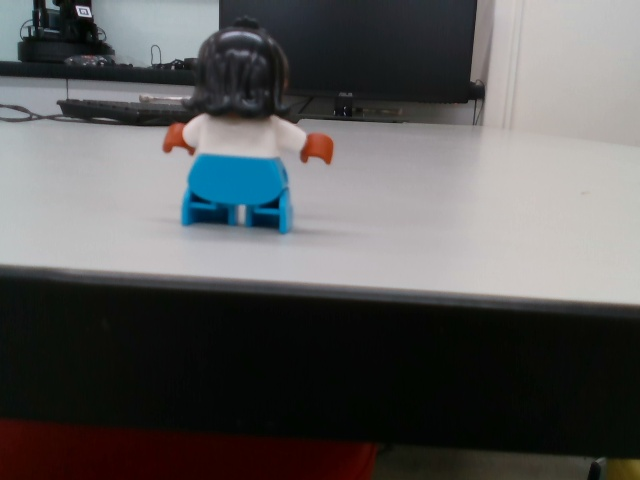people: (159, 12, 336, 237)
